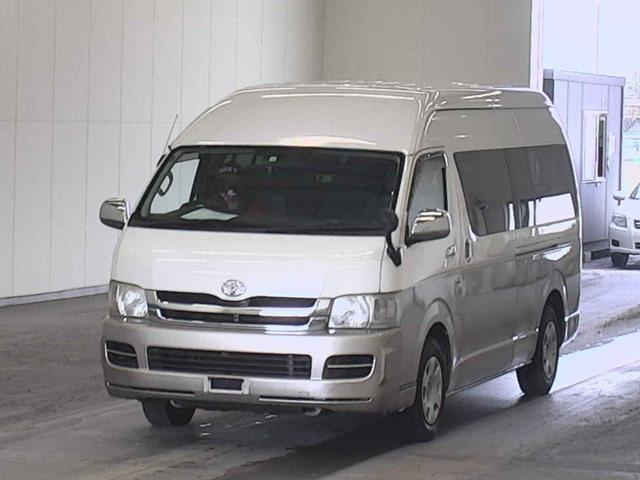van: (97, 73, 586, 430)
